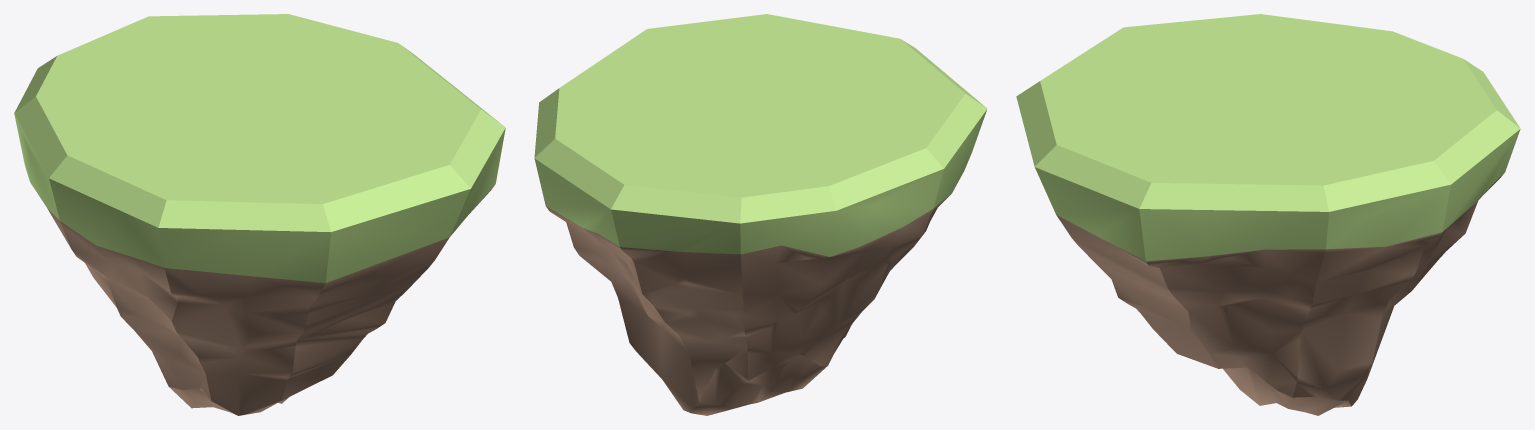
Rendered from tile_1_1.fbx.
3 renders of one model, left to right at view 1: azimuth 30°, elevation 25°; view 2: azimuth 150°, elevation 25°; view 3: azimuth 270°, elevation 25°, orthographic. The views are drawn at different scales.
Visible parts, largest first — view 1: Jump_Map_Tiles_1; view 2: Jump_Map_Tiles_1; view 3: Jump_Map_Tiles_1.
Part boxes in pixels (x1,y1,x2,y2): Jump_Map_Tiles_1: (14,14,505,415); Jump_Map_Tiles_1: (534,14,987,415); Jump_Map_Tiles_1: (1016,14,1520,415).
Bounding box in the file's own units: 11.37 × 8.42 × 12.79.
